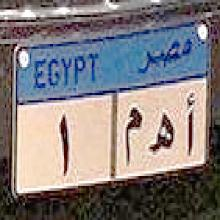1: (56, 111, 72, 179)
alif: (182, 89, 197, 163)
haa: (146, 110, 176, 160)
meem: (122, 105, 144, 170)
